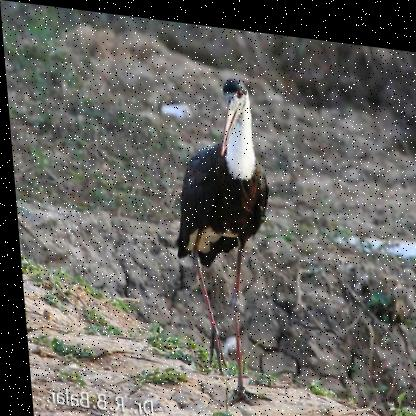Burung: (155, 61, 286, 406)
